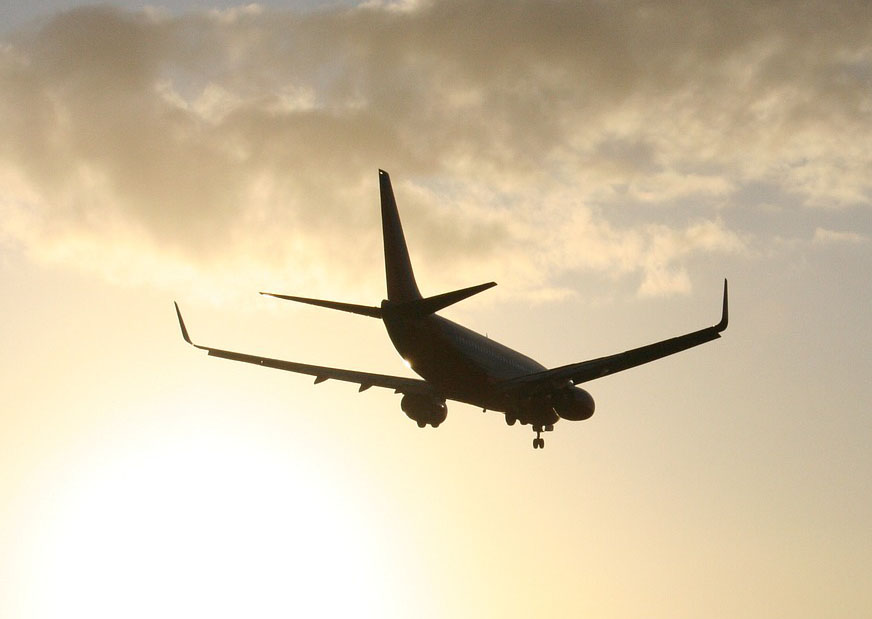aeroplane: (163, 151, 739, 463)
